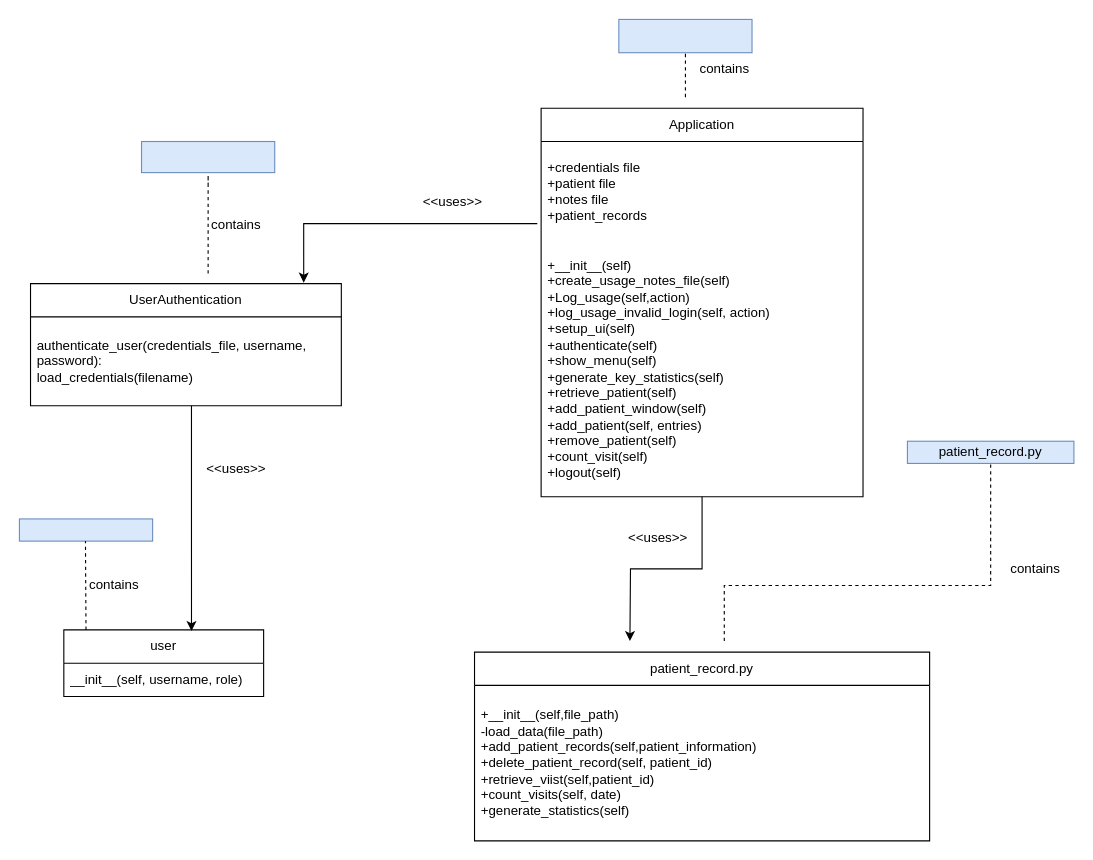
The diagram is 1093 pixels wide and 860 high, and some of its shapes have lost their labels. The centre of each missing label's shape, as x and y in pixels:
"Authentication.py" belongs at (207,156).
"ui.py" belongs at (685,35).
"User.py" belongs at (85,529).
